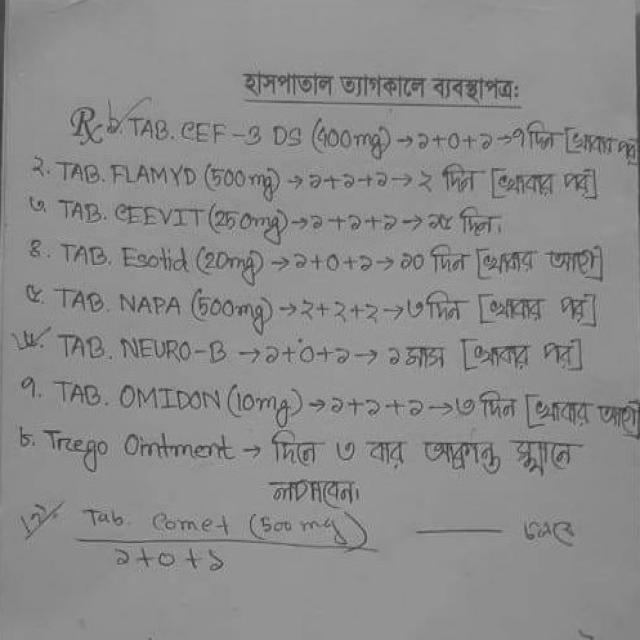medicine: (174, 114, 308, 153), (111, 378, 226, 420), (117, 332, 231, 370), (102, 154, 204, 193), (40, 420, 118, 467), (114, 198, 208, 234), (146, 508, 237, 542), (114, 284, 188, 322), (116, 240, 192, 276)
